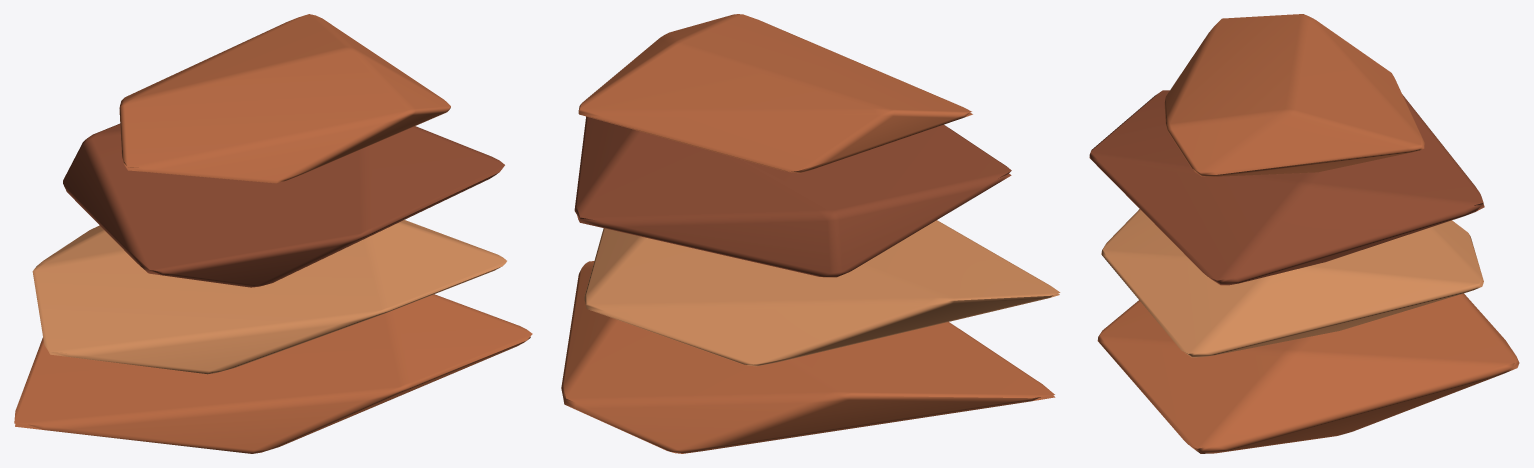
File: rocher_desert_1.glb
3 views of the same model, side by side, from view 1: azimuth 30°, elevation 25°; view 2: azimuth 150°, elevation 25°; view 3: azimuth 270°, elevation 25° (orthographic). The views are drawn at different scales.
Parts seen in each view (by area): view 1: roche_gres.006, roche_gres_clair.006, roche_gres_sombre.006; view 2: roche_gres.006, roche_gres_sombre.006, roche_gres_clair.006; view 3: roche_gres.006, roche_gres_sombre.006, roche_gres_clair.006.
Boxes of the visible parts, box(x1,y1,x2,y2) form: roche_gres.006: box(14, 14, 532, 453); roche_gres_clair.006: box(32, 220, 506, 374); roche_gres_sombre.006: box(63, 123, 504, 287); roche_gres.006: box(561, 14, 1055, 453); roche_gres_sombre.006: box(574, 116, 1011, 277); roche_gres_clair.006: box(584, 220, 1060, 366); roche_gres.006: box(1097, 14, 1519, 453); roche_gres_sombre.006: box(1089, 90, 1484, 285); roche_gres_clair.006: box(1101, 209, 1483, 357).
Size of the model in its own units: 0.8515 by 0.5314 by 0.6677.
